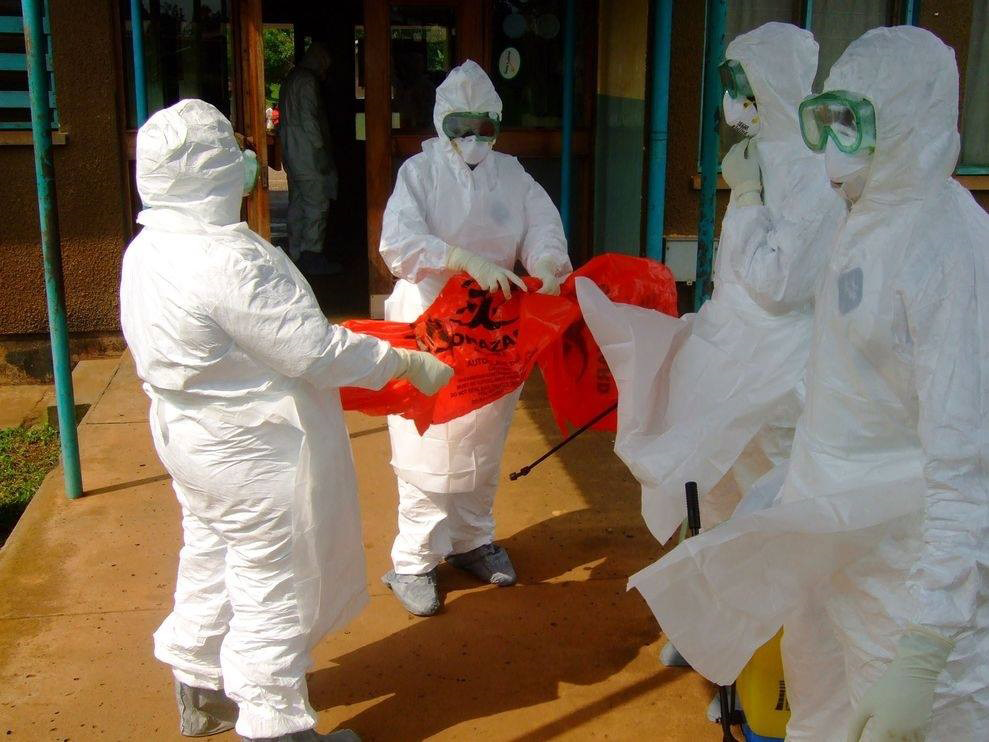Coverall: (119, 91, 358, 695), (796, 28, 986, 742), (378, 52, 561, 546), (704, 21, 838, 632)
Gloves: (383, 344, 457, 399), (722, 141, 769, 212), (460, 249, 525, 298)
Goggles: (797, 92, 882, 154), (439, 108, 507, 142), (719, 61, 760, 98)
with_mask: (824, 128, 877, 201), (719, 81, 763, 140), (451, 130, 497, 171)
